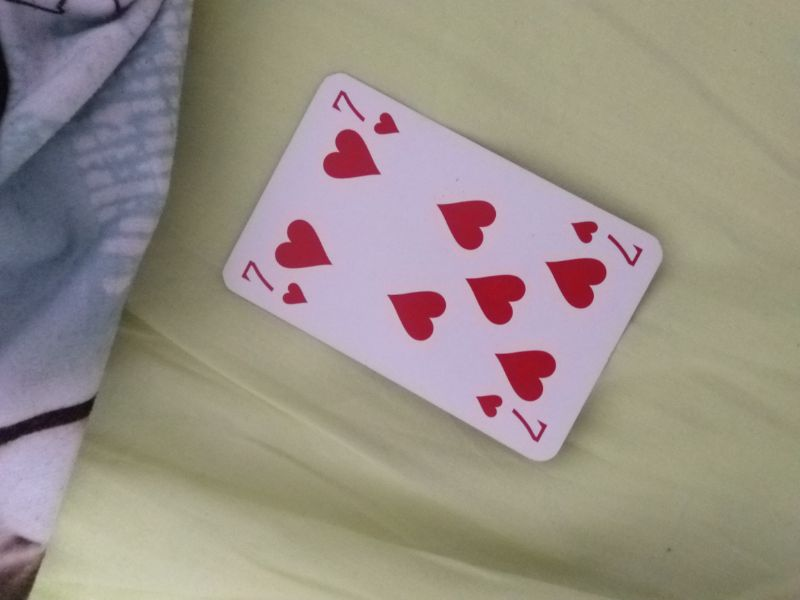7h: (474, 390, 551, 443), (238, 256, 314, 309), (570, 218, 647, 269), (330, 88, 402, 137)
